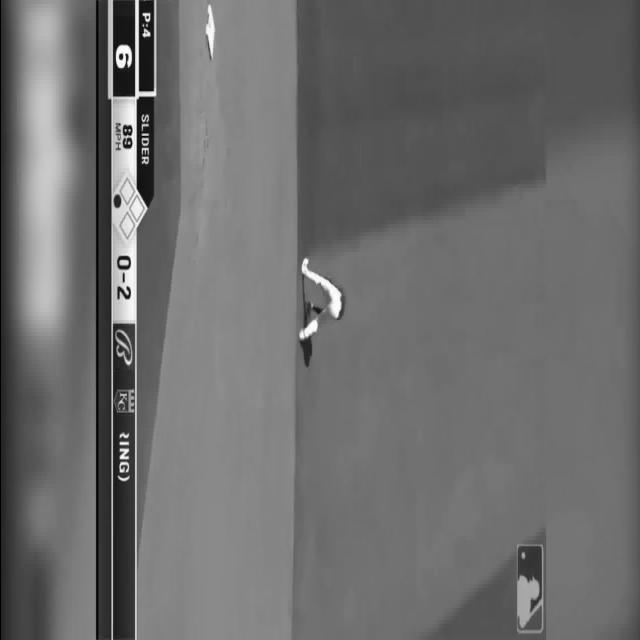shoe: (300, 257, 308, 275), (298, 328, 304, 342)
